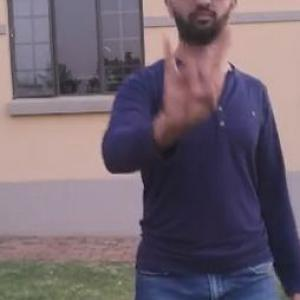takeoff-hand: (151, 23, 235, 134)
